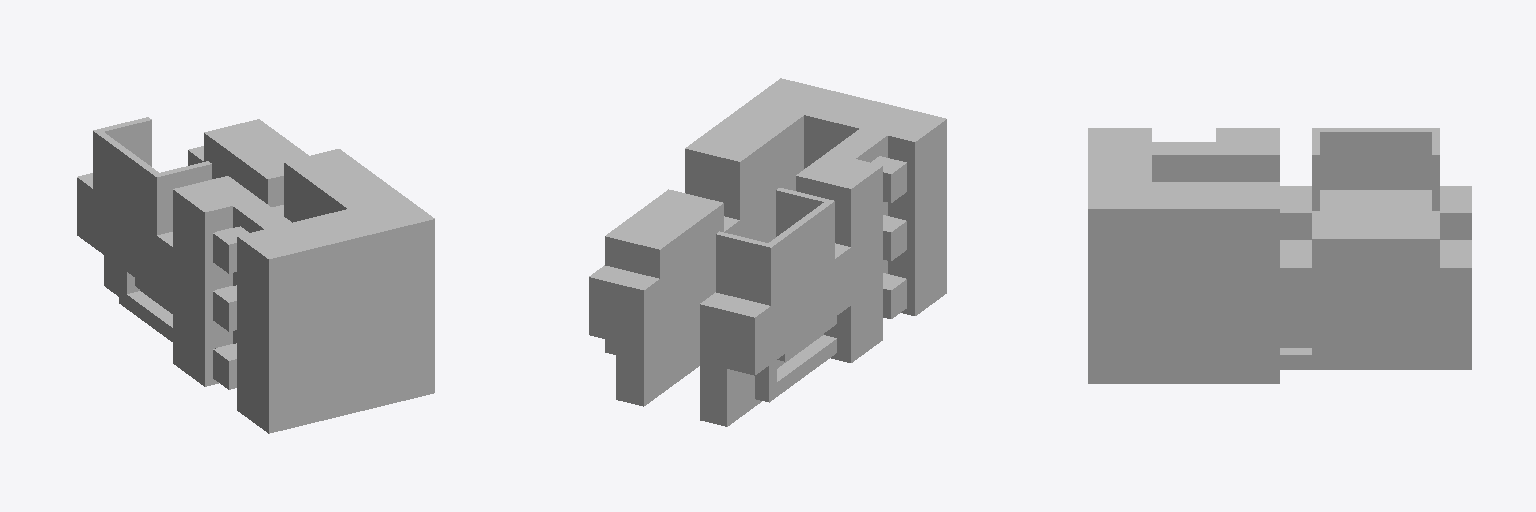
Rendered from excavator_mirrored.obj.
3 renders of one model, left to right at view 1: azimuth 30°, elevation 25°; view 2: azimuth 150°, elevation 25°; view 3: azimuth 270°, elevation 25°, orthographic.
Parts seen in each view (by area): view 1: excavator; view 2: excavator; view 3: excavator.
Boxes of the visible parts, <box> form: excavator: <box>77,117,434,433</box>; excavator: <box>589,78,946,426</box>; excavator: <box>1088,128,1471,383</box>.
Bounding box in the file's own units: 3 × 3 × 6.